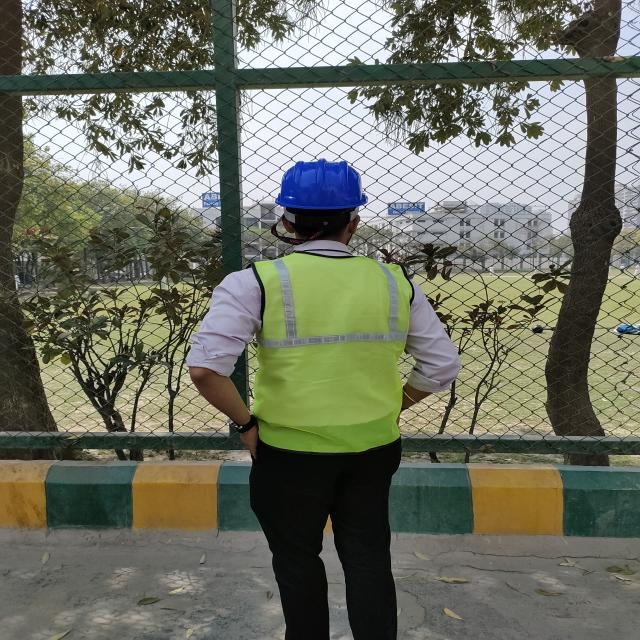safe: (187, 158, 461, 640)
